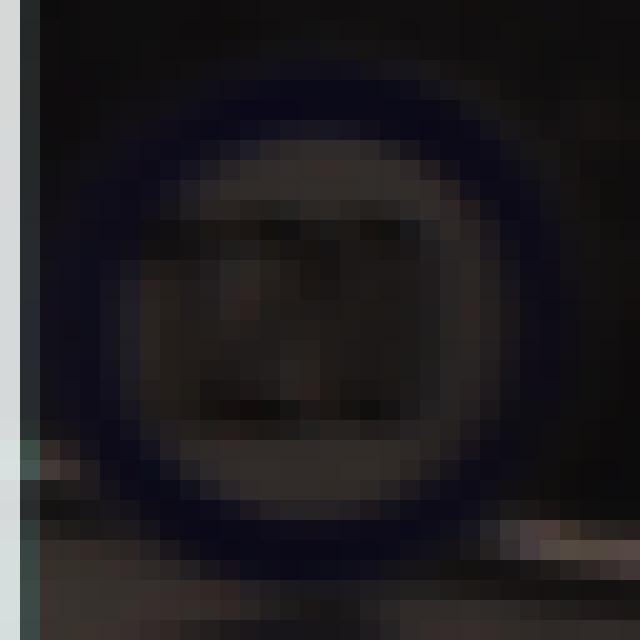SPEED LIMIT 120: (93, 123, 541, 539)
